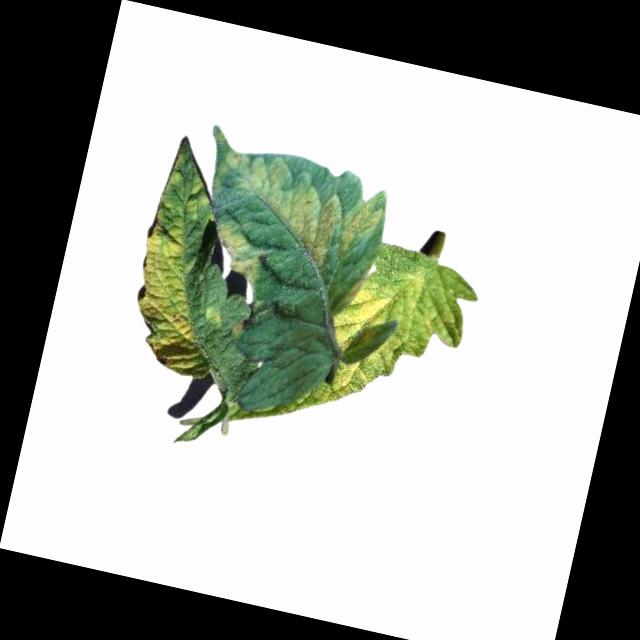Leaf_Mold: (118, 131, 255, 377), (312, 251, 484, 441), (200, 142, 389, 274), (204, 219, 278, 294)
